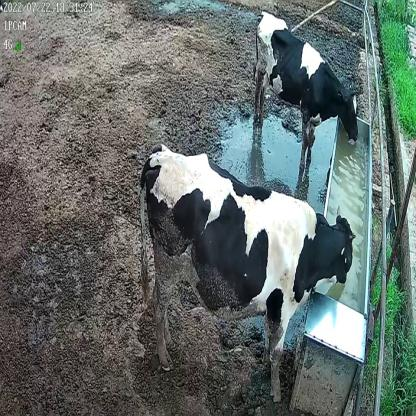cow: (135, 144, 358, 406), (251, 9, 360, 168)
